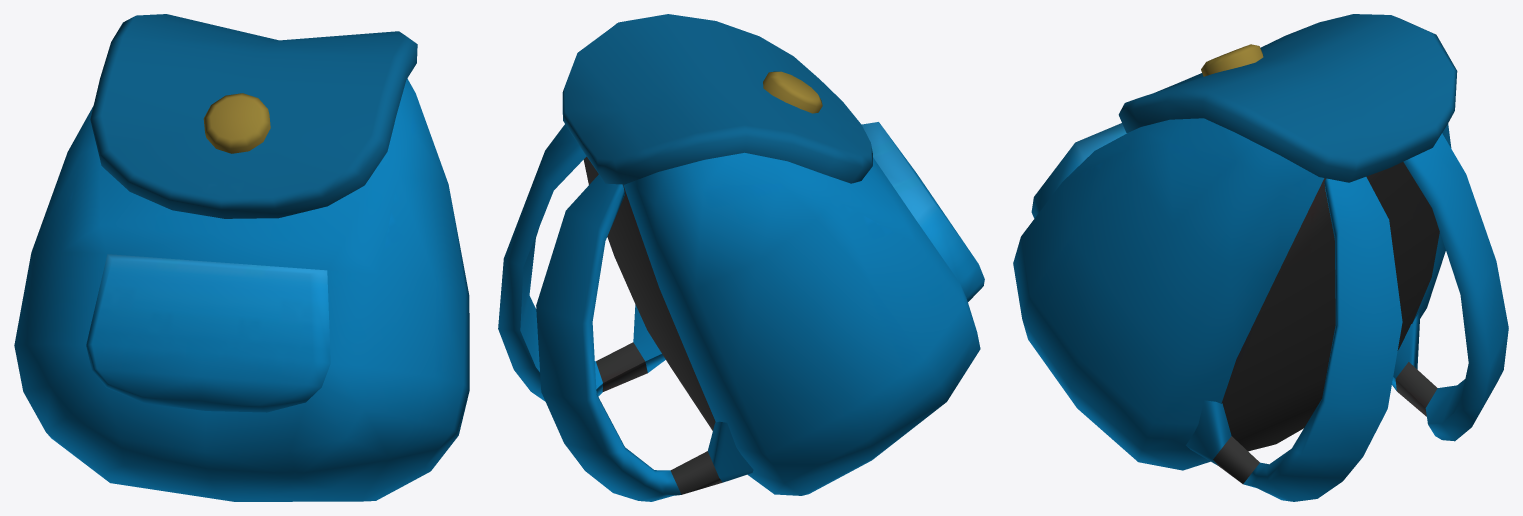
Rendered from UnitIconBag.glb.
3 renders of one model, left to right at view 1: azimuth 30°, elevation 25°; view 2: azimuth 150°, elevation 25°; view 3: azimuth 270°, elevation 25°, orthographic. The views are drawn at different scales.
Visible parts, largest first — view 1: botan__mBody; view 2: botan__mBody; view 3: botan__mBody.
Boxes of the visible parts, x1,y1,x2,y2 form: botan__mBody: [14, 14, 469, 501]; botan__mBody: [498, 14, 984, 501]; botan__mBody: [1013, 14, 1508, 501].
Bounding box in the file's own units: 4.38 × 3.95 × 4.42.
1 material, 1 textured.
